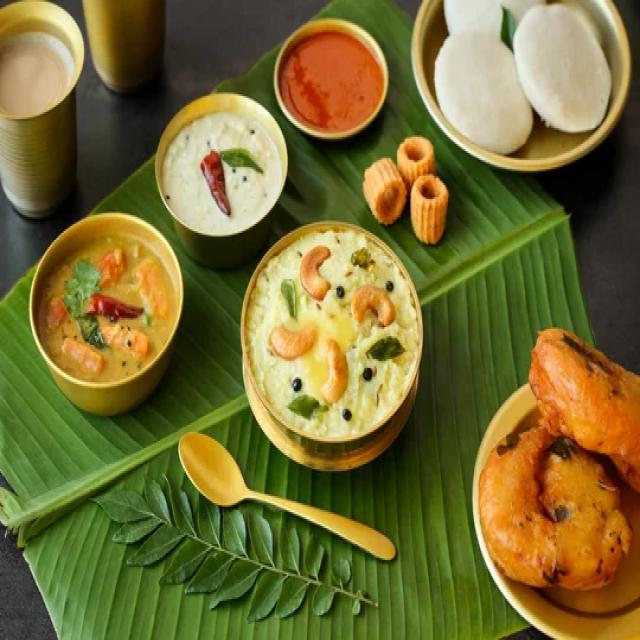IDLI: (437, 0, 611, 155)
PONGAL: (253, 235, 413, 424)
SAMBAR: (42, 239, 170, 378)
VADA: (484, 326, 639, 584)
WHITE CHUTNEY: (169, 114, 272, 229)
